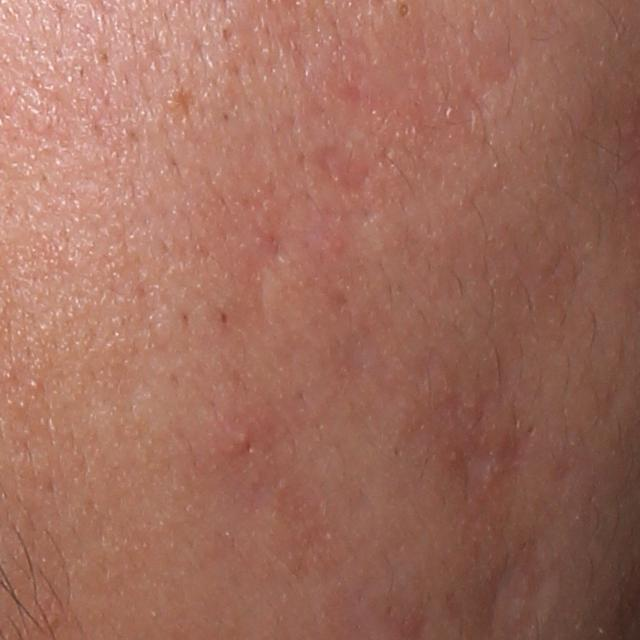atrophic_scar: (235, 213, 306, 313), (309, 141, 373, 199), (456, 428, 496, 516)
papule: (224, 422, 265, 455)
